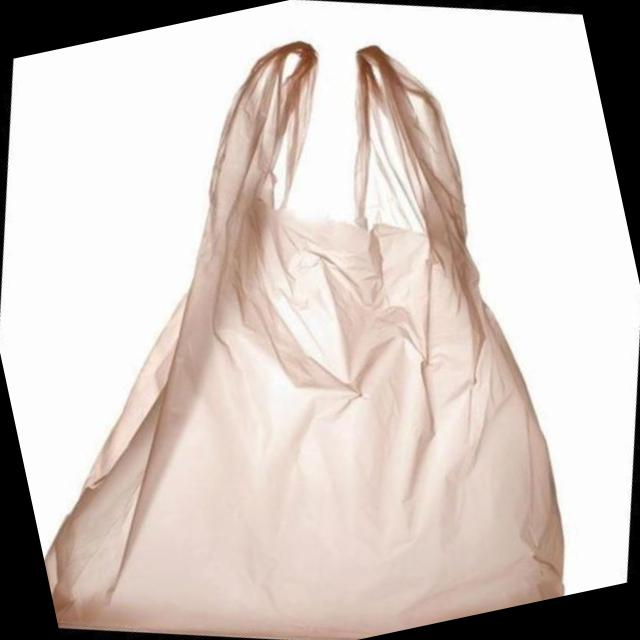KantongPlastik: (0, 4, 580, 640)
